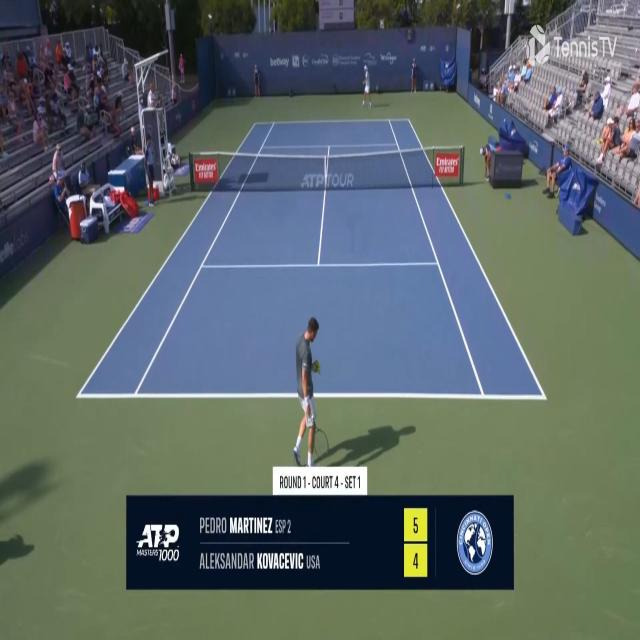tennis-player: (292, 313, 331, 466), (360, 64, 373, 108)
